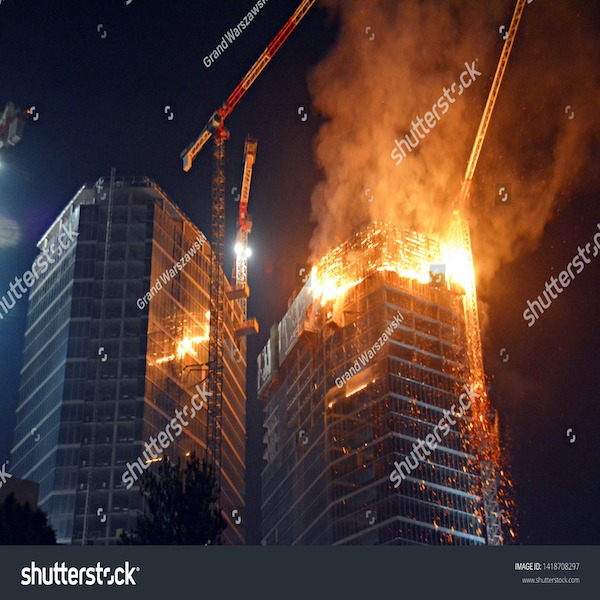fire: (392, 217, 475, 287), (306, 258, 358, 294)
